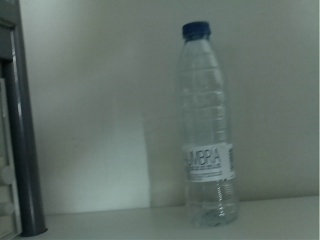botella plastico: (177, 22, 241, 227)
